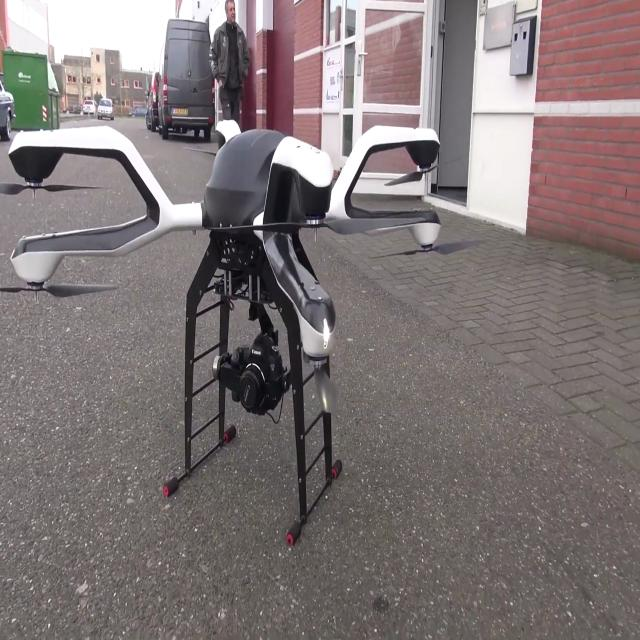drone: (12, 47, 524, 521)
